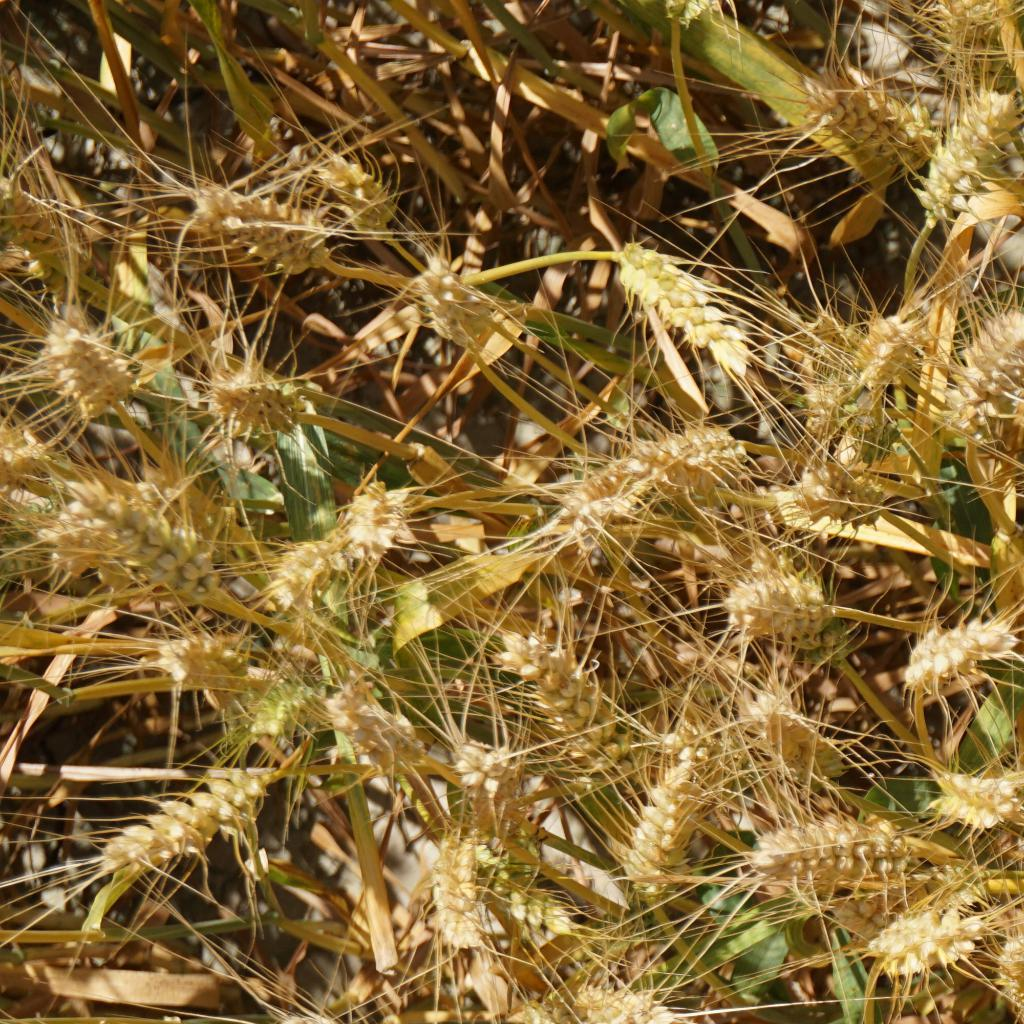0-0: (64, 762, 267, 883), (784, 39, 949, 182), (614, 239, 757, 378), (732, 800, 945, 886), (506, 638, 632, 779), (598, 749, 706, 906), (67, 479, 216, 592), (933, 303, 1024, 464), (23, 468, 172, 566), (905, 90, 1016, 220), (174, 183, 322, 273), (896, 600, 1024, 704), (43, 320, 147, 440), (438, 737, 531, 856), (479, 841, 581, 946), (704, 574, 839, 653), (276, 136, 396, 221), (324, 678, 427, 777), (638, 425, 766, 502), (855, 903, 993, 972), (414, 832, 486, 958), (199, 357, 306, 439), (546, 459, 637, 553), (0, 185, 94, 269), (741, 695, 836, 778), (147, 622, 251, 696), (922, 756, 1024, 830), (245, 528, 331, 615), (790, 464, 893, 534), (325, 477, 407, 564), (406, 263, 481, 352), (837, 412, 920, 478), (848, 307, 921, 382), (422, 257, 495, 331), (793, 376, 878, 437), (254, 673, 316, 748), (900, 860, 994, 908), (915, 0, 1015, 45), (577, 979, 677, 1024), (798, 306, 858, 372), (989, 928, 1024, 1020), (493, 992, 572, 1024), (0, 419, 44, 466), (660, 0, 724, 26), (1004, 760, 1024, 816)
